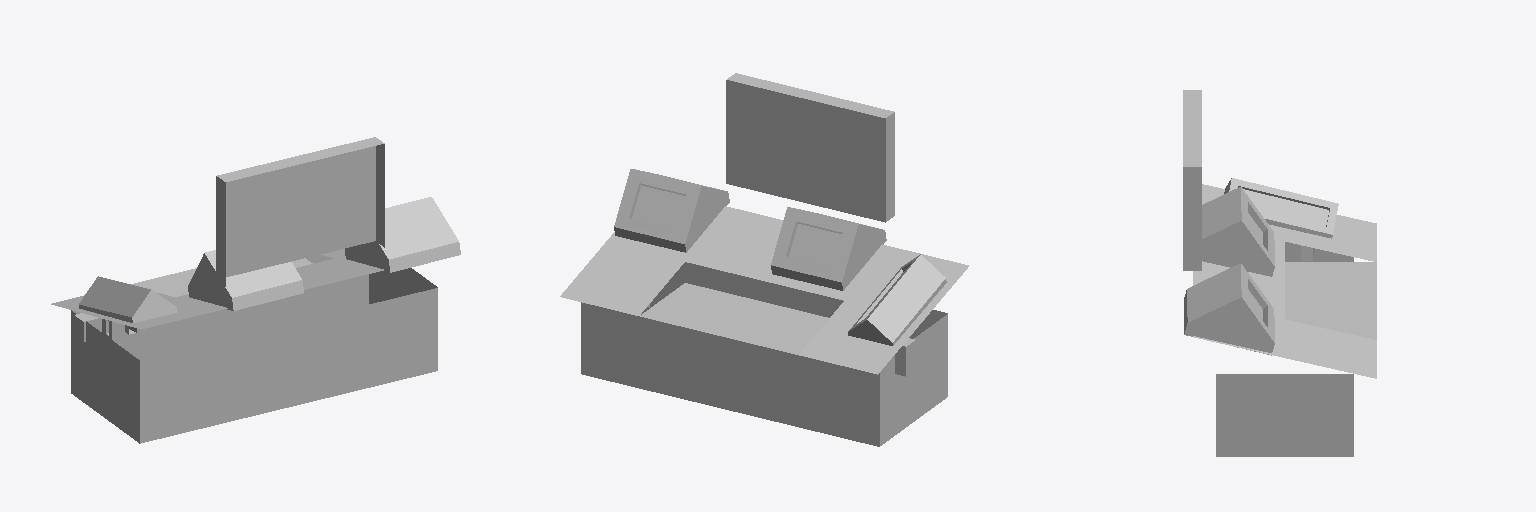
File: library_console-01-body.obj
The picture shows the model from 3 angles: view 1: azimuth 30°, elevation 25°; view 2: azimuth 150°, elevation 25°; view 3: azimuth 270°, elevation 25°; orthographic projection.
Visible parts, largest first — view 1: Cube.002_Cube.003, Cube_Cube.004, cryo_chamber-08.001_cryo_chamber-08.004, cryo_chamber-08.002_cryo_chamber-08.010, cryo_chamber-08.003, Plane, Plane.002, cryo_chamber-08.005_cryo_chamber-08.006; view 2: Cube.002_Cube.003, Cube_Cube.004, Plane, cryo_chamber-08.001_cryo_chamber-08.004, cryo_chamber-08.002_cryo_chamber-08.010, Plane.001, Plane.002, cryo_chamber-08.003, Plane.003, cryo_chamber-08.005_cryo_chamber-08.006; view 3: Cube.002_Cube.003, cryo_chamber-08.001_cryo_chamber-08.004, Plane, cryo_chamber-08.002_cryo_chamber-08.010, Plane.001, Cube_Cube.004, cryo_chamber-08.003, Plane.002, Plane.003.
Part boxes in pixels (left/top/right/bottom): Cube.002_Cube.003: left=71, top=255, right=437, bottom=443; Cube_Cube.004: left=216, top=137, right=384, bottom=286; cryo_chamber-08.001_cryo_chamber-08.004: left=345, top=197, right=460, bottom=272; cryo_chamber-08.002_cryo_chamber-08.010: left=188, top=250, right=303, bottom=310; cryo_chamber-08.003: left=79, top=276, right=177, bottom=322; Plane: left=131, top=258, right=379, bottom=309; Plane.002: left=51, top=292, right=219, bottom=329; cryo_chamber-08.005_cryo_chamber-08.006: left=74, top=313, right=136, bottom=351; Cube.002_Cube.003: left=581, top=263, right=947, bottom=446; Cube_Cube.004: left=726, top=73, right=894, bottom=222; Plane: left=640, top=208, right=889, bottom=354; cryo_chamber-08.001_cryo_chamber-08.004: left=614, top=169, right=729, bottom=252; cryo_chamber-08.002_cryo_chamber-08.010: left=771, top=207, right=886, bottom=290; Plane.001: left=560, top=206, right=730, bottom=315; Plane.002: left=799, top=246, right=968, bottom=374; cryo_chamber-08.003: left=848, top=254, right=946, bottom=345; Plane.003: left=675, top=293, right=776, bottom=328; cryo_chamber-08.005_cryo_chamber-08.006: left=895, top=338, right=915, bottom=376; Cube.002_Cube.003: left=1216, top=242, right=1353, bottom=456; cryo_chamber-08.001_cryo_chamber-08.004: left=1184, top=263, right=1274, bottom=355; Plane: left=1193, top=239, right=1376, bottom=339; cryo_chamber-08.002_cryo_chamber-08.010: left=1202, top=187, right=1274, bottom=276; Plane.001: left=1193, top=317, right=1376, bottom=378; Cube_Cube.004: left=1183, top=90, right=1201, bottom=270; cryo_chamber-08.003: left=1224, top=178, right=1338, bottom=238; Plane.002: left=1202, top=184, right=1376, bottom=261; Plane.003: left=1311, top=283, right=1356, bottom=321.
Bounding box in the file's own units: 4.02 × 3.07 × 2.1.